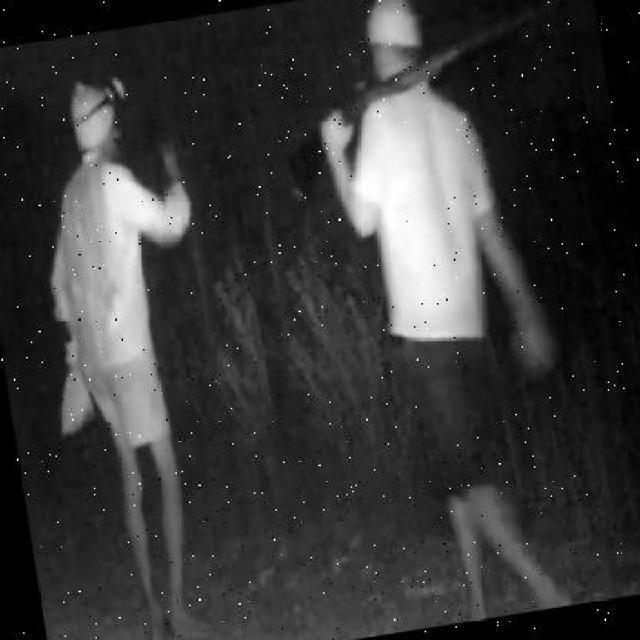poacher: (36, 64, 216, 566), (358, 0, 494, 578)
weapon: (301, 54, 461, 146)
